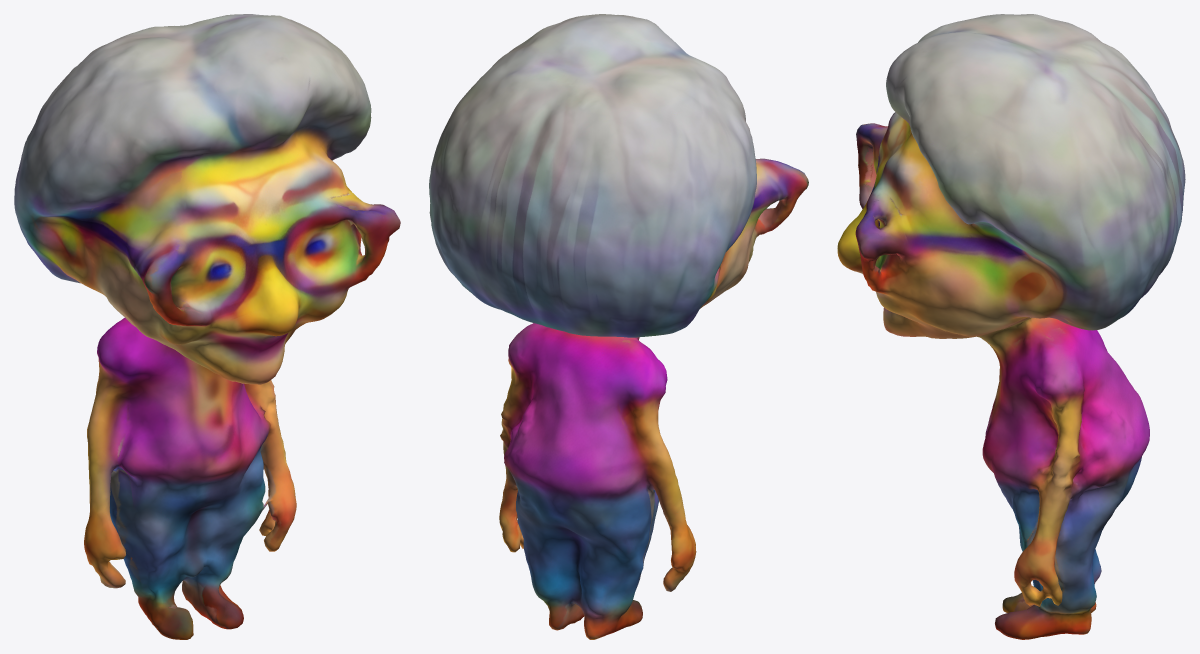
The model's file is _cartoon_character__0713002223_refine.fbx.
The picture shows the model from 3 angles, left to right: view 1: azimuth 30°, elevation 25°; view 2: azimuth 150°, elevation 25°; view 3: azimuth 270°, elevation 25°; orthographic projection. The views are drawn at different scales.
Parts seen in each view (by area): view 1: Mesh_0; view 2: Mesh_0; view 3: Mesh_0.
Part boxes in pixels (x1,y1,x2,y2): Mesh_0: [14, 14, 400, 639]; Mesh_0: [429, 14, 808, 639]; Mesh_0: [837, 14, 1185, 639].
Bounding box in the file's own units: 63.83 × 120 × 62.84.
1 material, 1 textured.
